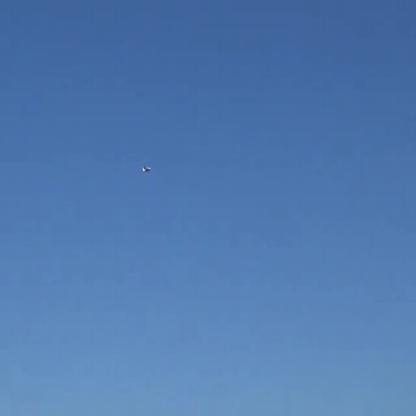CIV_Plane: (142, 166, 152, 174)
